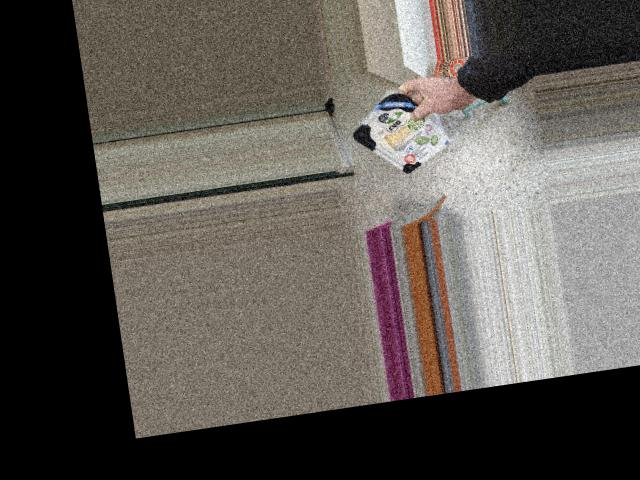cheese: (357, 65, 441, 183)
